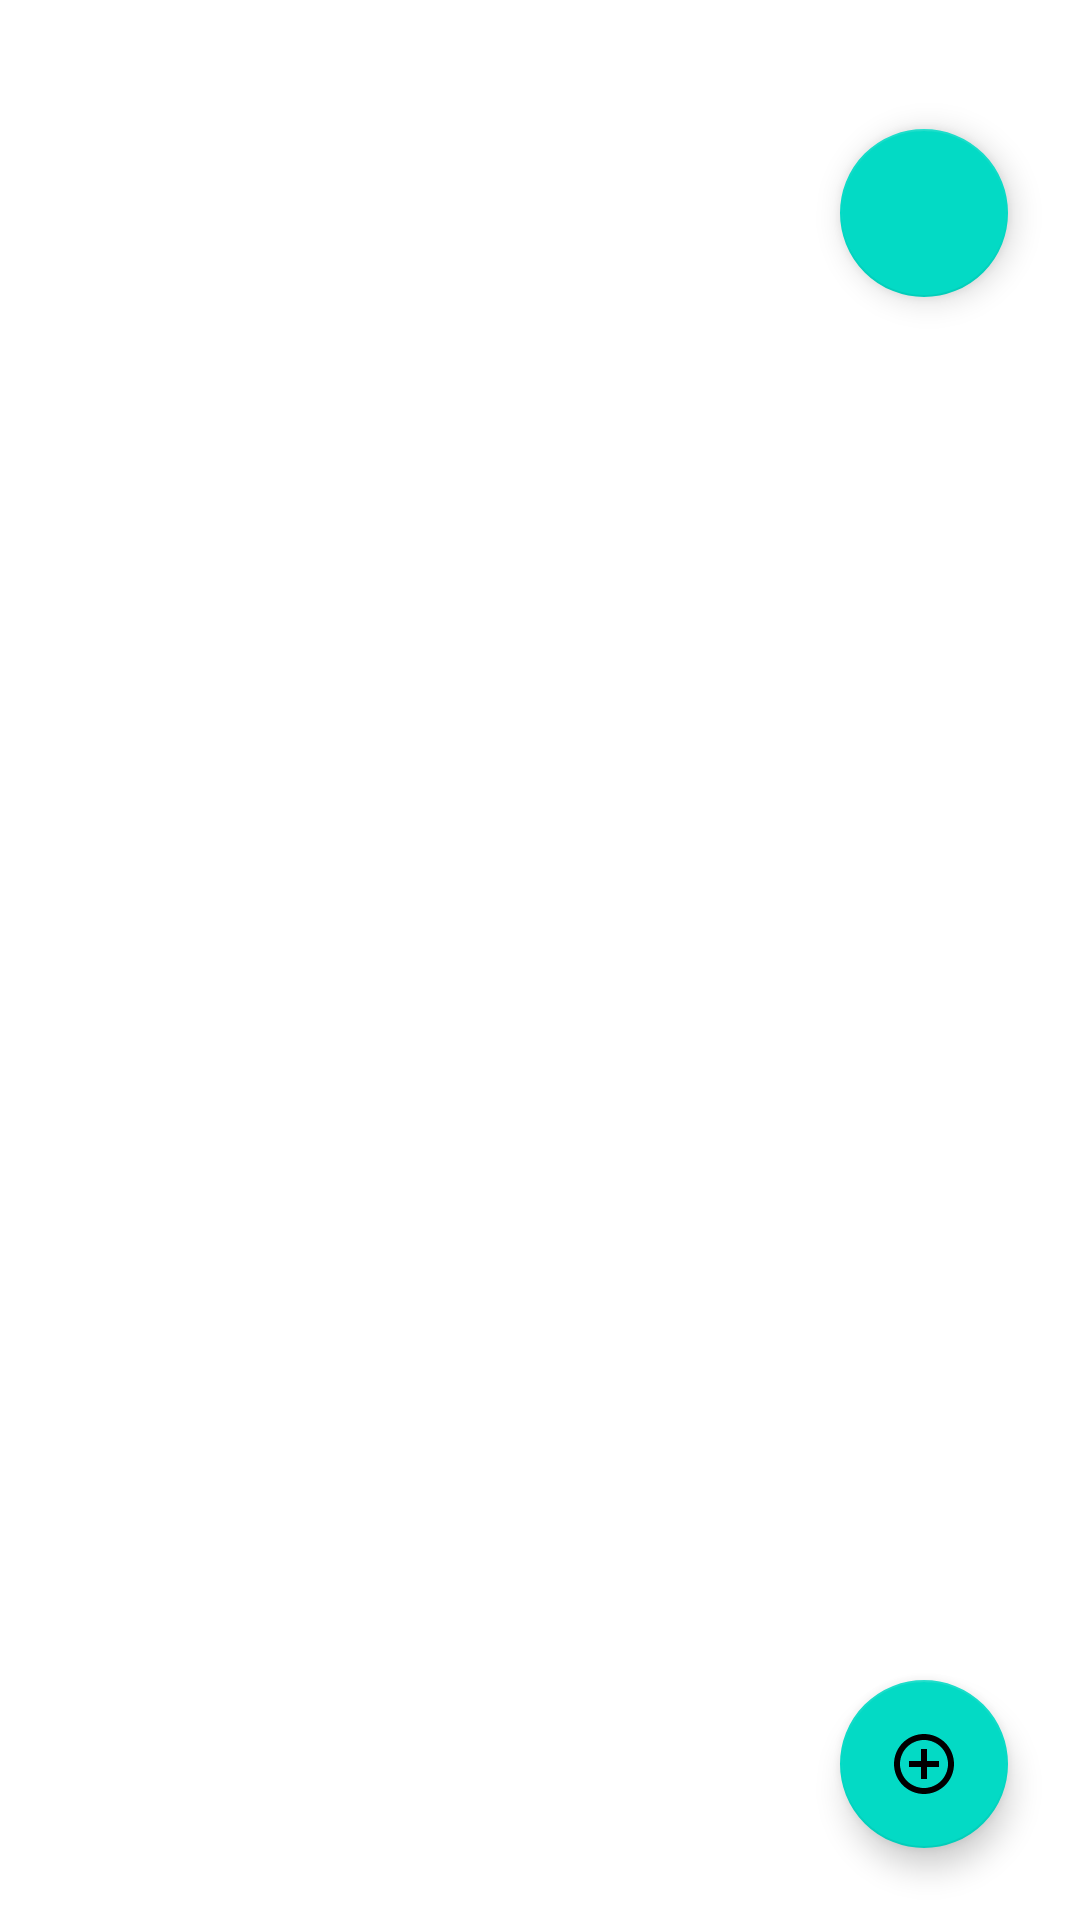

Where to tap for icons on this 1080×1920 app screen, as point (x, y):
add circle: point (924, 1764)
